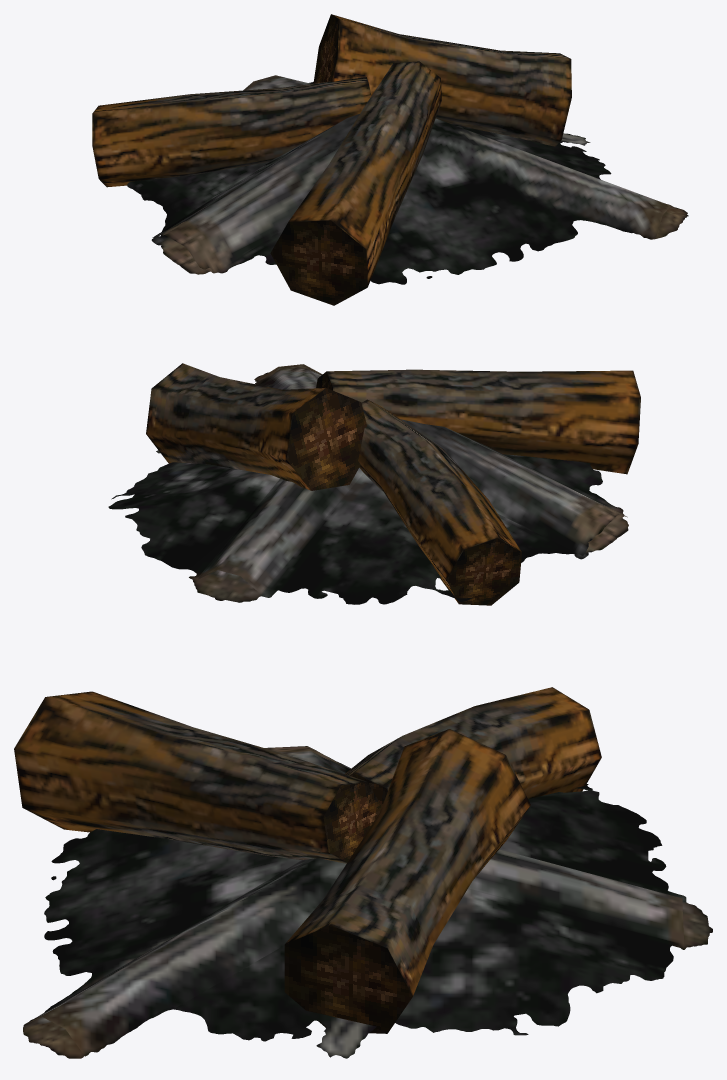
The model's file is INST_OH_FIRE_PIT_01.fbx.
3 renders of one model, top to bottom at view 1: azimuth 30°, elevation 25°; view 2: azimuth 150°, elevation 25°; view 3: azimuth 270°, elevation 25°, orthographic. The views are drawn at different scales.
Visible parts, largest first — view 1: INST_OH_FIRE_PIT_01; view 2: INST_OH_FIRE_PIT_01; view 3: INST_OH_FIRE_PIT_01.
Boxes of the visible parts, left/top/right/bottom form: INST_OH_FIRE_PIT_01: left=92, top=14, right=688, bottom=305; INST_OH_FIRE_PIT_01: left=108, top=363, right=640, bottom=605; INST_OH_FIRE_PIT_01: left=14, top=687, right=712, bottom=1058.
Bounding box in the file's own units: 11769 × 3708 × 11846.
3 materials, 3 textured.
